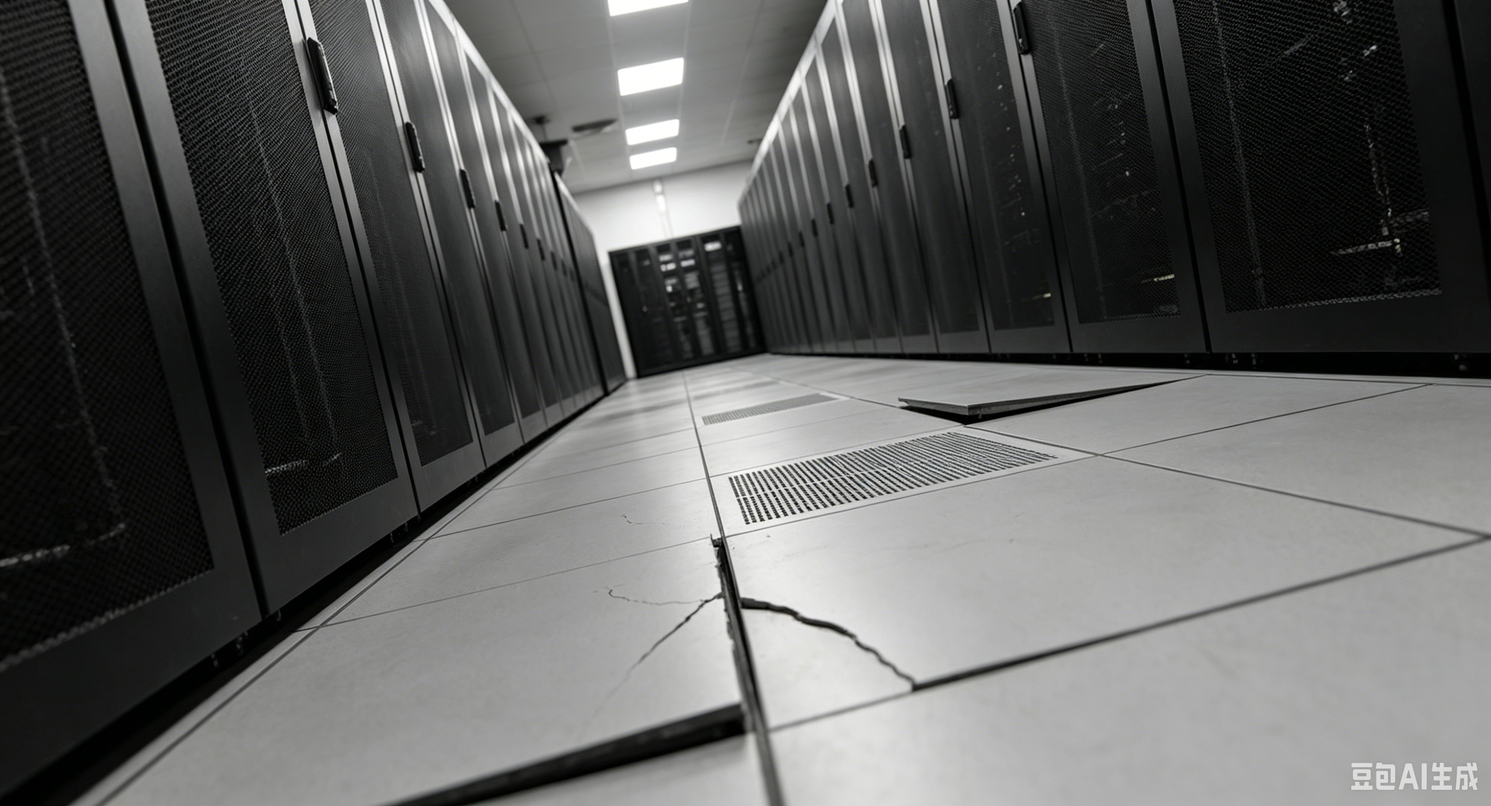floor_defect: (365, 715, 713, 806), (684, 523, 800, 740), (874, 368, 1191, 438), (798, 596, 934, 710), (605, 574, 699, 619), (640, 616, 686, 704)
